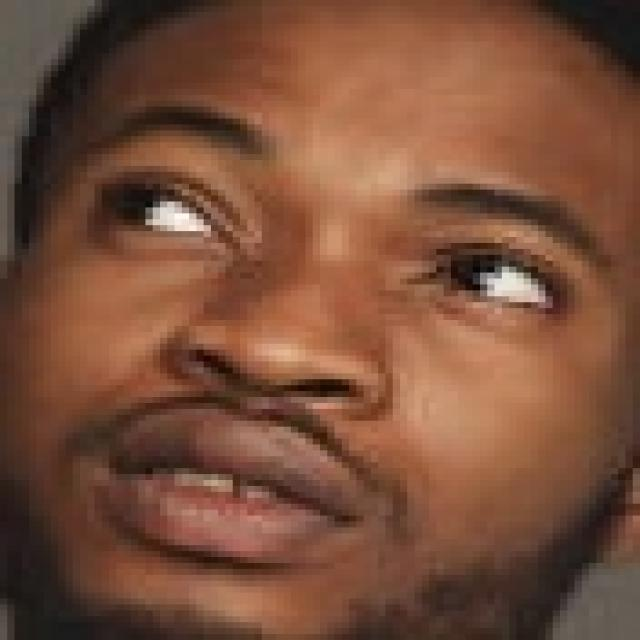Anxiety: (0, 0, 633, 634)
